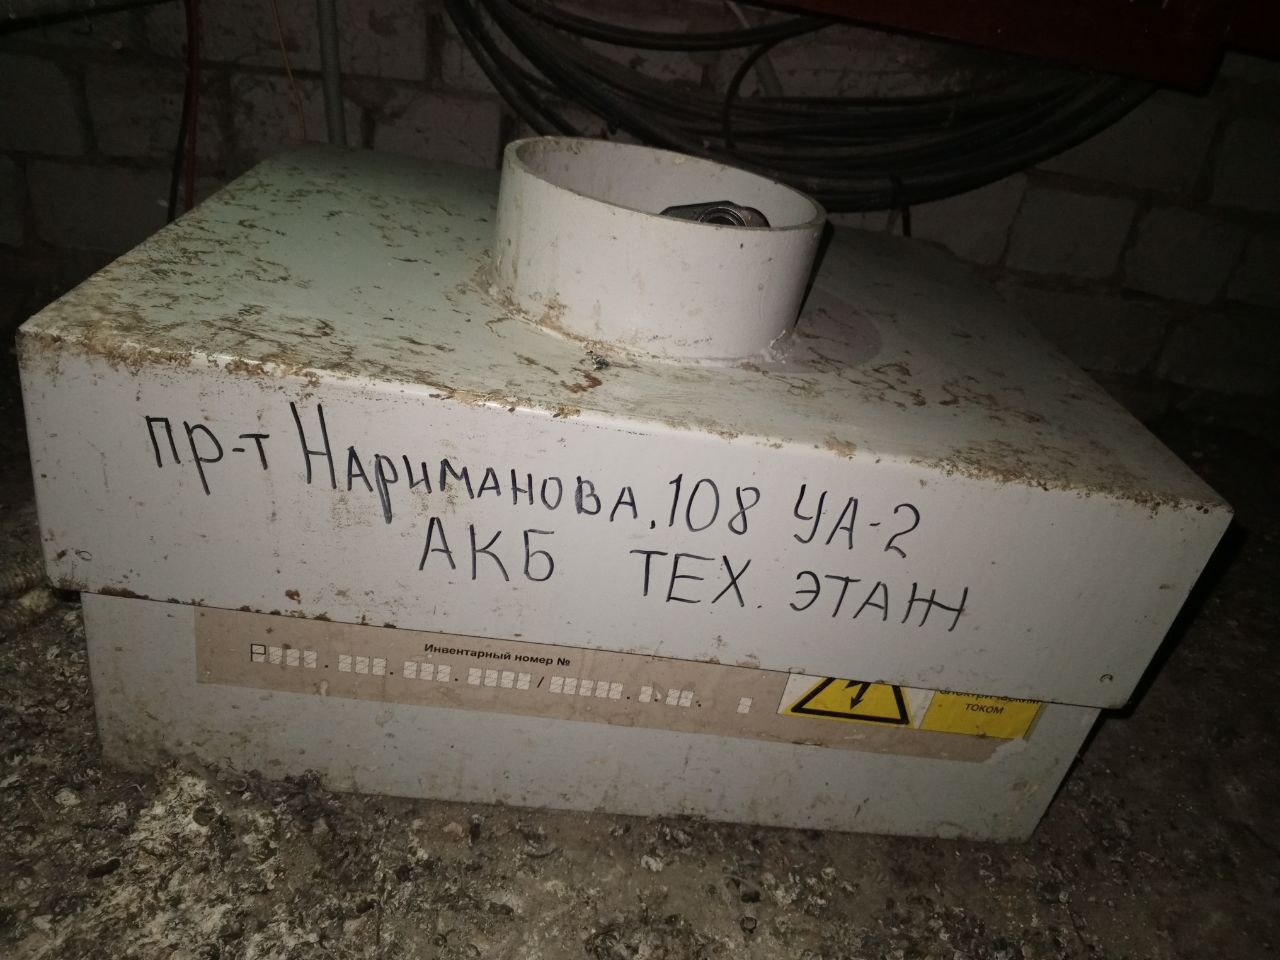shta-ps: (12, 100, 1240, 848)
